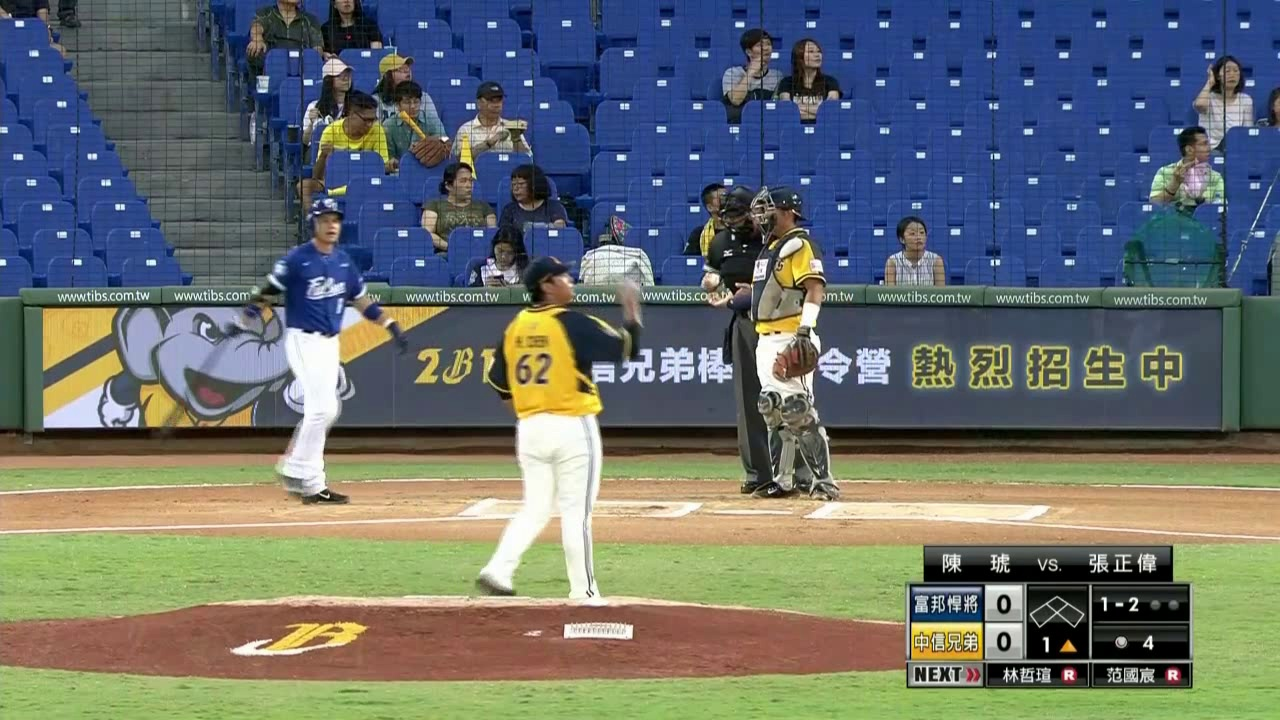ball: (710, 274, 720, 285)
base: (1027, 588, 1089, 632)
bat: (158, 317, 243, 438)
out: (1143, 589, 1184, 617)
score1: (987, 590, 1016, 614)
score2: (987, 628, 1020, 655)
session: (1028, 633, 1087, 658)
strikeball: (1096, 589, 1141, 618)
total: (1106, 629, 1160, 657)
